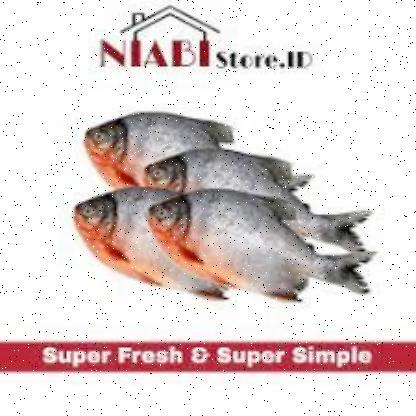ikan-pacu: (145, 190, 332, 288), (76, 186, 182, 291), (82, 113, 206, 182), (144, 148, 296, 192)
